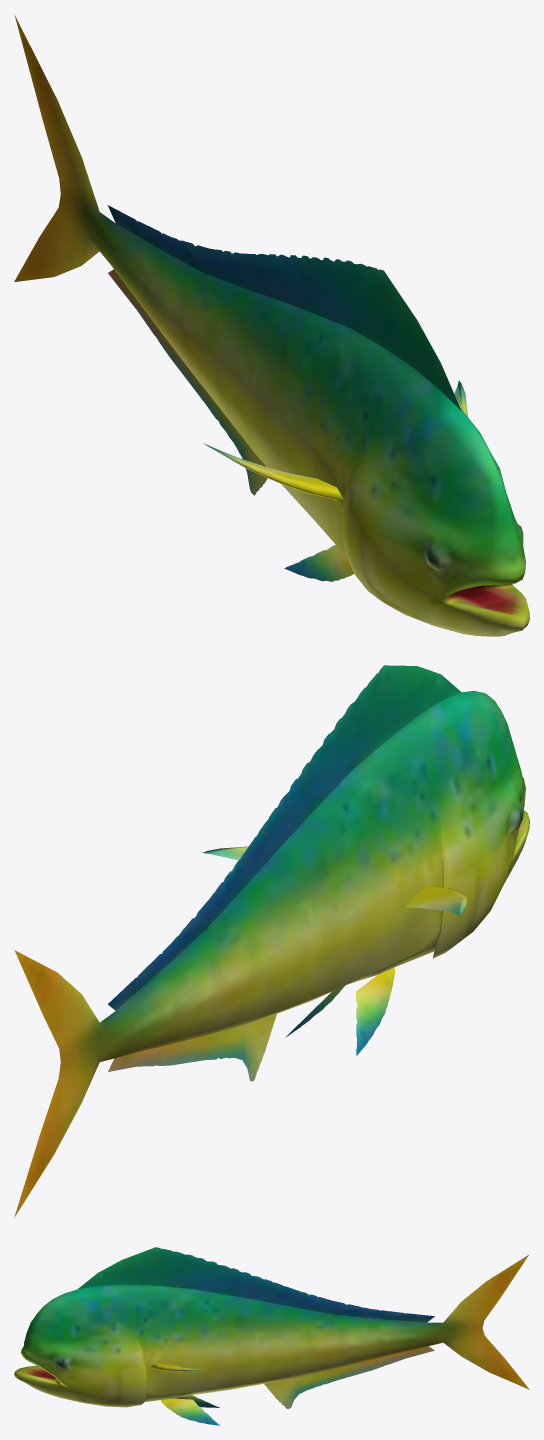
The model's file is mahi-mahi.glb.
3 renders of one model, top to bottom at view 1: azimuth 30°, elevation 25°; view 2: azimuth 150°, elevation 25°; view 3: azimuth 270°, elevation 25°, orthographic. The views are drawn at different scales.
Bounding box in the file's own units: 6.28 × 7.85 × 21.62.
Materials: 1 (1 with a texture image).
